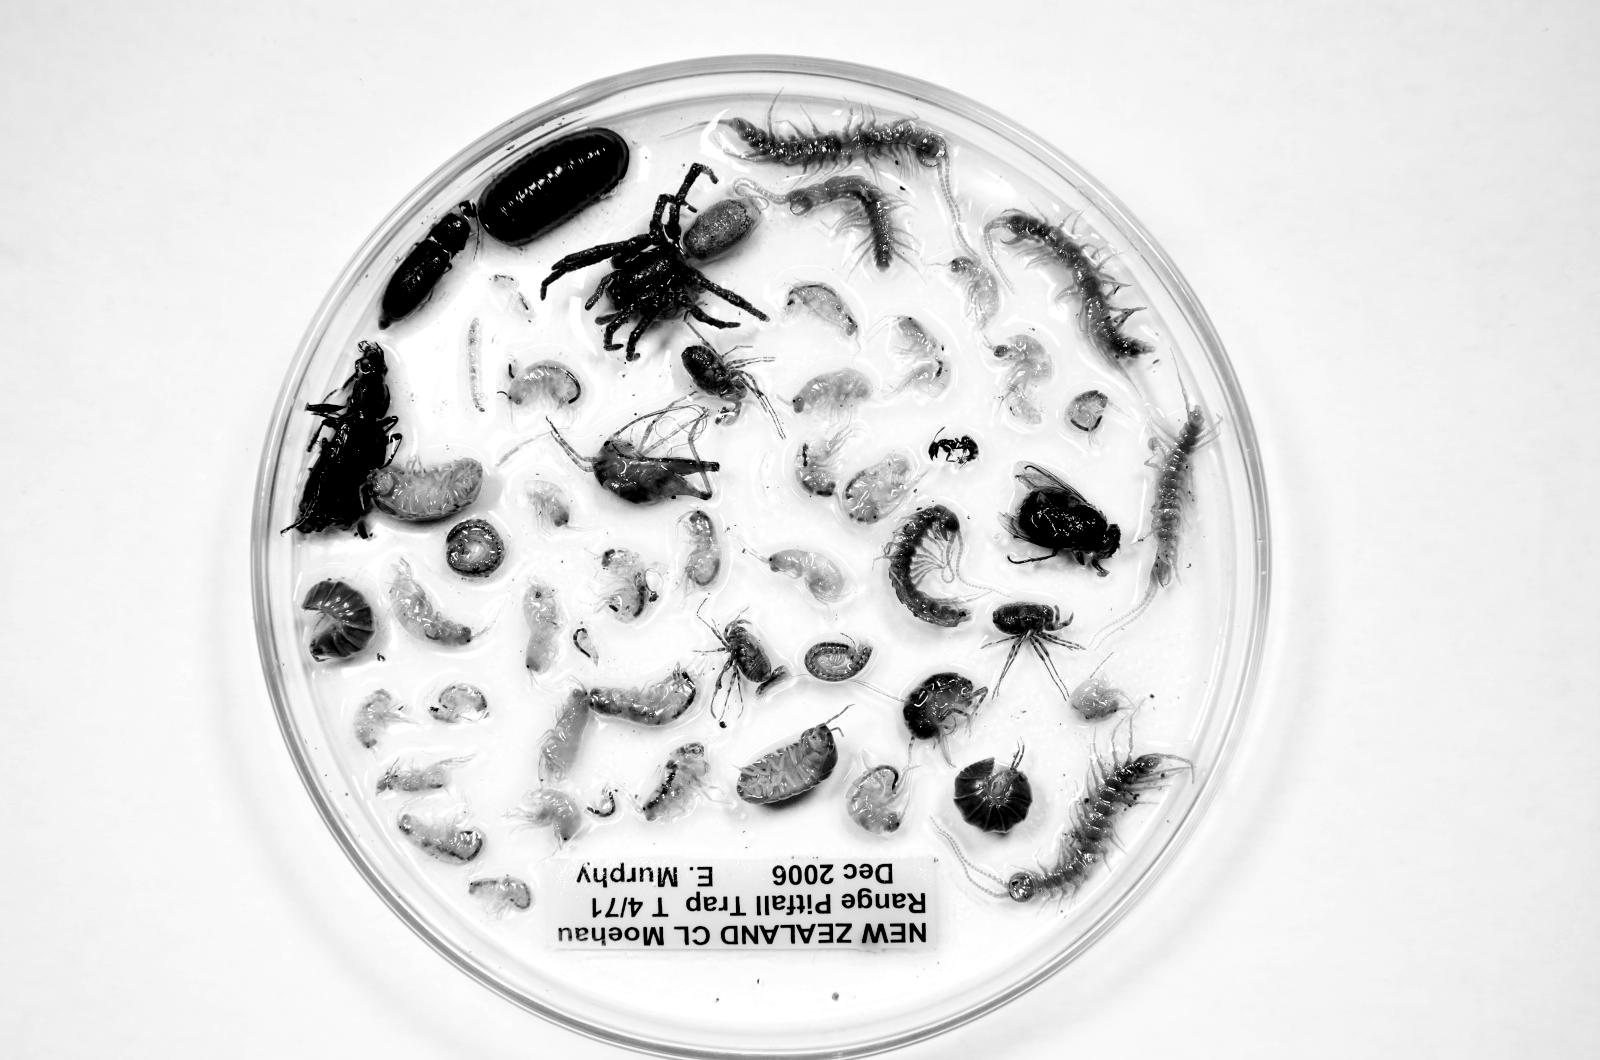amphipoda: (390, 557, 485, 646), (585, 665, 698, 725), (640, 743, 723, 821), (840, 453, 915, 523), (538, 685, 590, 786), (397, 804, 485, 864), (890, 316, 950, 400), (595, 548, 659, 623), (505, 787, 583, 848), (846, 764, 913, 834), (795, 422, 856, 497), (766, 549, 848, 605), (791, 368, 873, 420), (784, 282, 859, 338), (376, 754, 475, 795), (947, 256, 1000, 331), (506, 358, 584, 409), (354, 690, 416, 749), (523, 582, 563, 672), (680, 509, 723, 590), (1069, 673, 1133, 722), (468, 874, 532, 919), (428, 683, 487, 723), (1064, 390, 1109, 442), (585, 784, 618, 819)
araneae: (540, 163, 767, 361)
carabidae: (286, 341, 401, 532)
chilopoda: (1003, 716, 1193, 909), (1090, 405, 1220, 648), (984, 209, 1154, 380), (719, 103, 959, 224), (773, 176, 895, 272), (883, 505, 969, 627)
coleoptera: (378, 212, 471, 329)
diplopoda: (446, 518, 505, 579), (804, 640, 872, 681)
diptera: (1006, 463, 1121, 576)
formicidae: (927, 435, 978, 465)
isopoda: (477, 128, 630, 246), (737, 723, 837, 804), (365, 458, 482, 521), (954, 744, 1032, 834), (302, 580, 375, 661)
opiliones: (682, 340, 786, 440), (992, 602, 1084, 699), (715, 620, 780, 705)
orthoptera: (551, 397, 720, 503), (902, 673, 987, 767)
